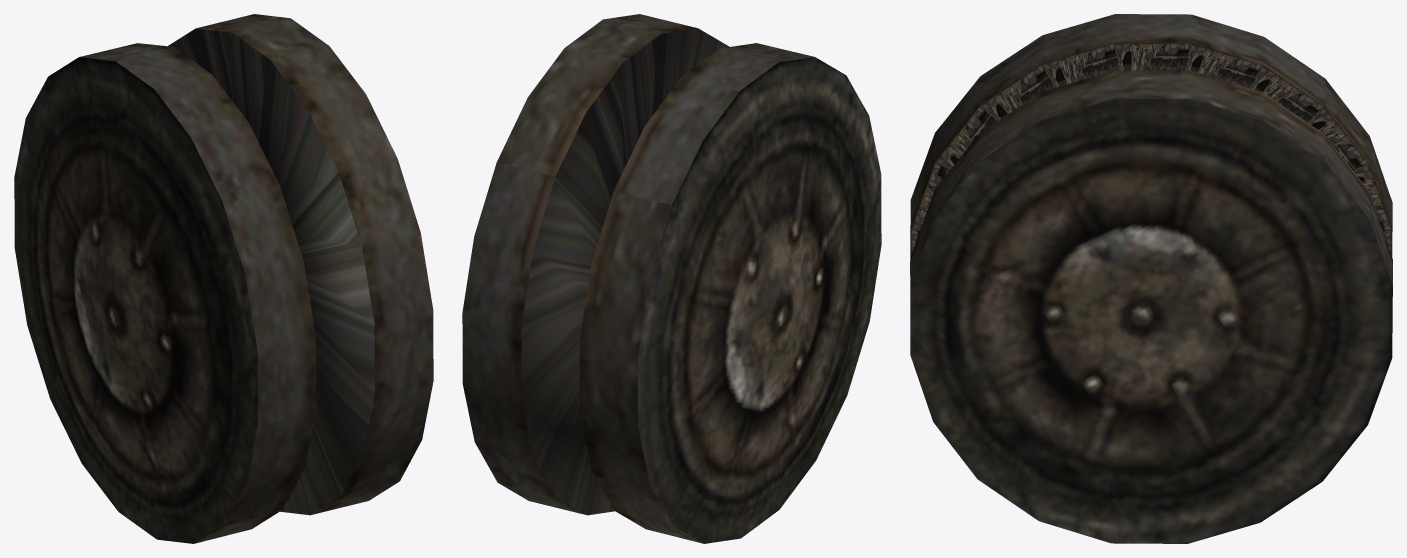
Rendered from Wheel.fbx.
3 views of the same model, side by side, from view 1: azimuth 30°, elevation 25°; view 2: azimuth 150°, elevation 25°; view 3: azimuth 270°, elevation 25° (orthographic).
Visible parts, largest first — view 1: Wheel; view 2: Wheel; view 3: Wheel.
Part boxes in pixels (<box>): Wheel: <box>14,14,433,543</box>; Wheel: <box>462,14,881,543</box>; Wheel: <box>910,14,1392,543</box>.
Bounding box in the file's own units: 25.78 × 55.55 × 54.58.
